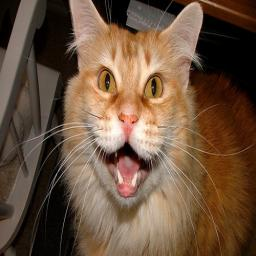catnose: (118, 112, 140, 144)
